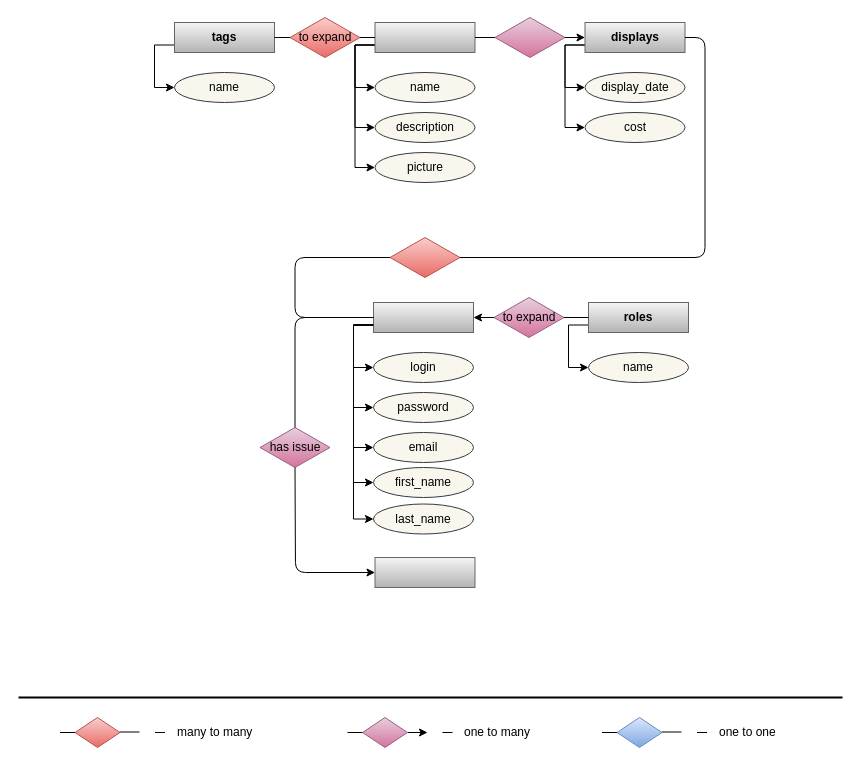
This 861x765 diagram has some shape labels left out. The centre of each missing label's shape, as x and y in pixels:
"movies" belongs at point 424,37.
"requests" belongs at point 424,572.
"tickets" belongs at point 424,257.
"users" belongs at point 423,317.
"when?" belongs at point 529,37.
